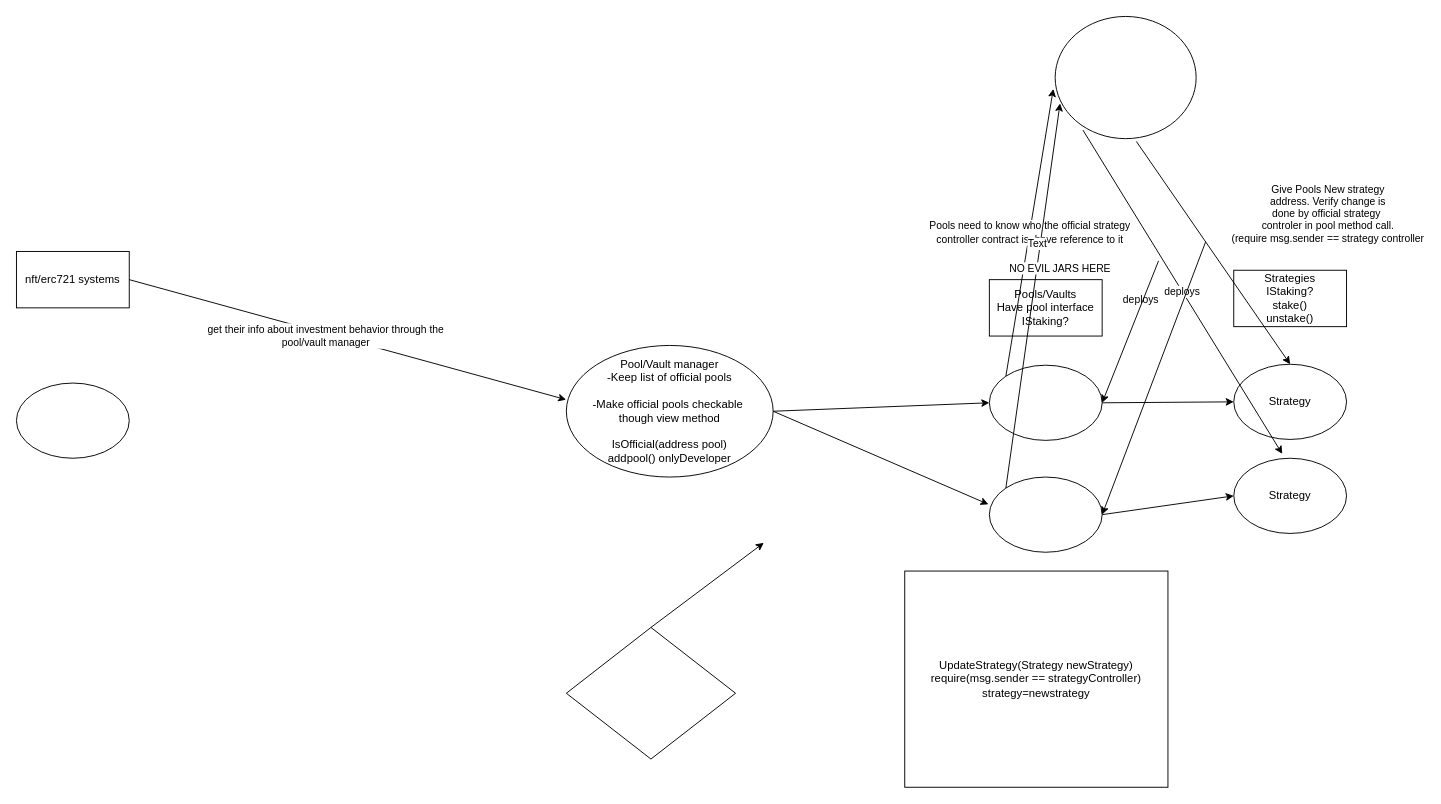
The diagram is 1441 pixels wide and 804 high, and some of its shapes have lost their labels. Each missing label, with the centre of its shape:
pool 1: pixel 1045 402
pool 2... ect.: pixel 1045 514
Strategy Controler Holds strategy change for 24 hours before deployment Timelock: pixel 1125 77
User/Front end App: pixel 650 693
